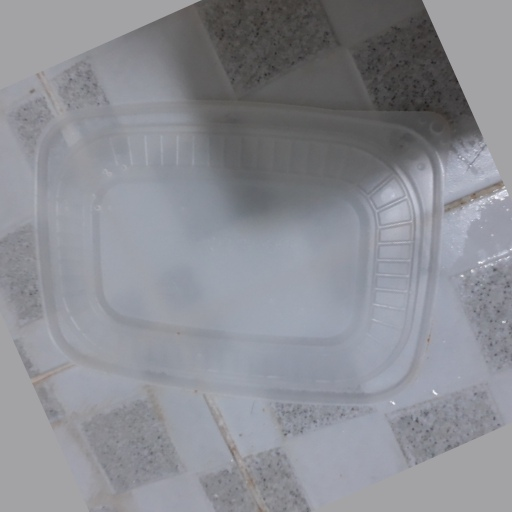Plastic_4: (29, 97, 449, 405)
